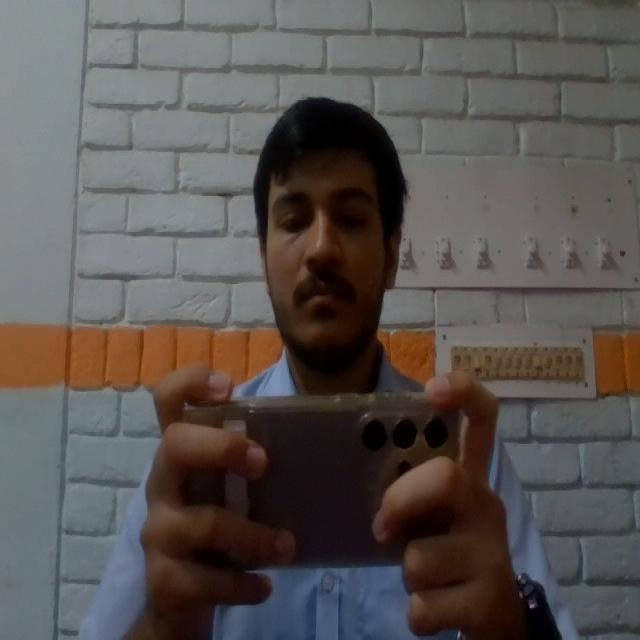phone: (178, 403, 469, 569)
using-phone: (88, 88, 586, 640)
